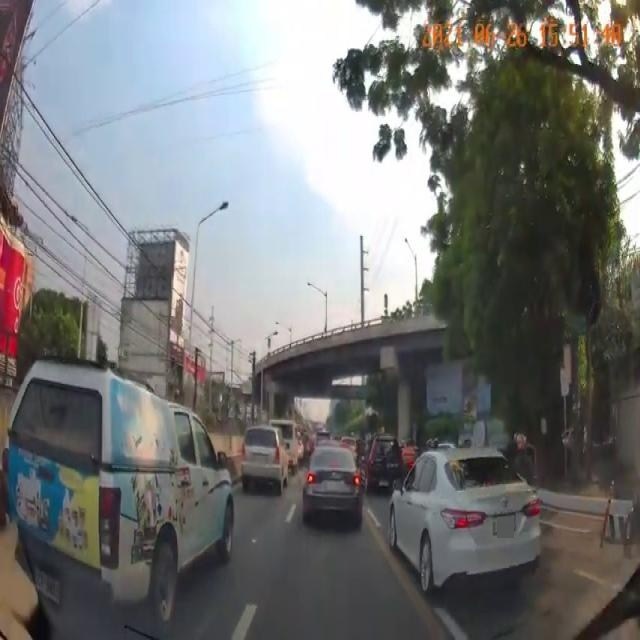car: (19, 361, 226, 623), (390, 445, 553, 587), (304, 439, 370, 539), (244, 414, 288, 495), (362, 427, 406, 489)
